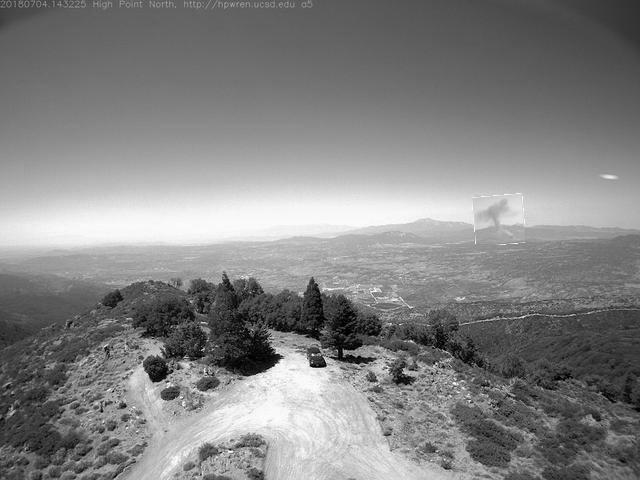smoke: (474, 195, 526, 246)
